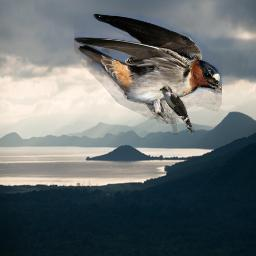Cuckoo: (159, 86, 196, 135)
Swallow: (74, 13, 222, 124)
